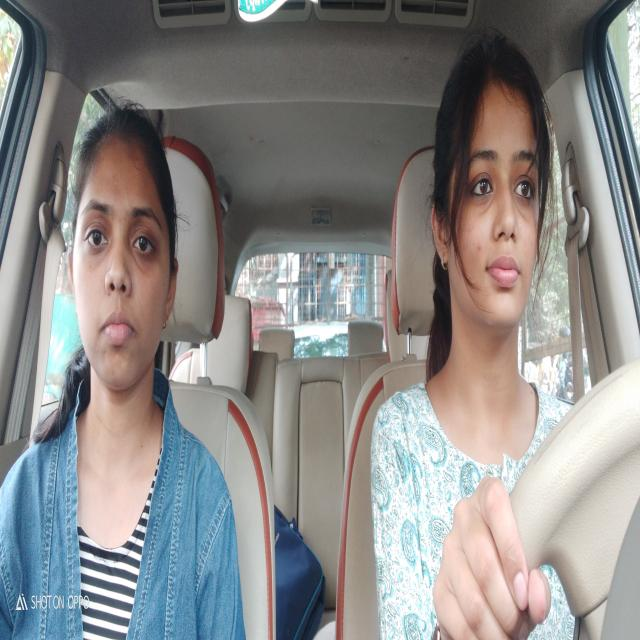person: (428, 37, 548, 363), (60, 102, 179, 390)
